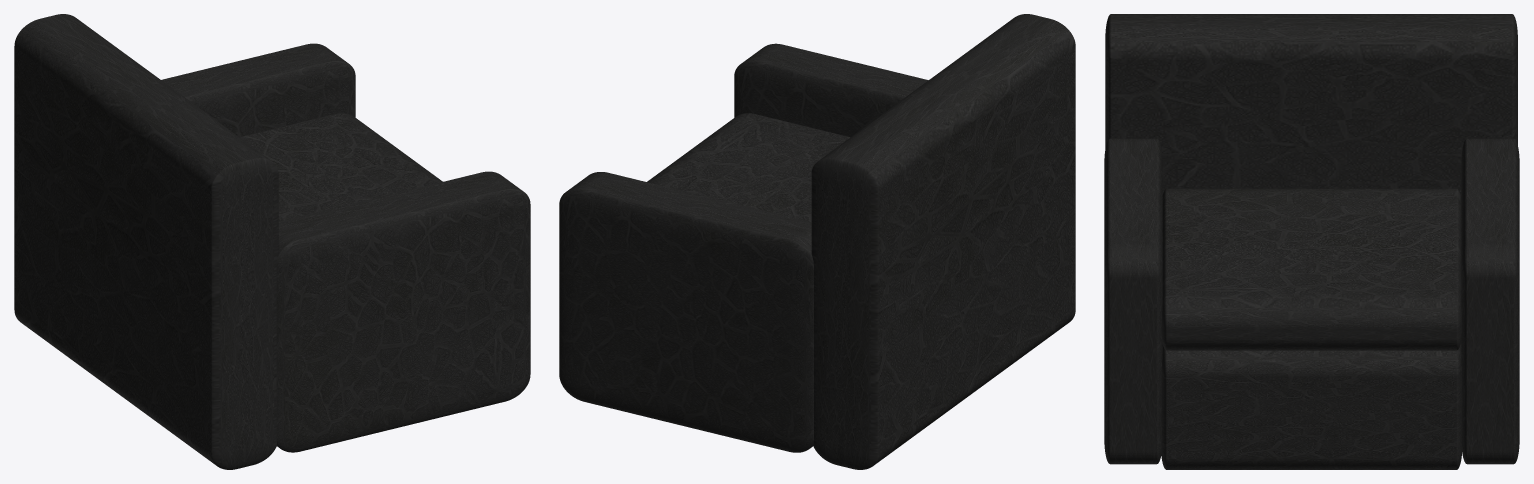
File: chair.glb
3 renders of one model, left to right at view 1: azimuth 30°, elevation 25°; view 2: azimuth 150°, elevation 25°; view 3: azimuth 270°, elevation 25°, orthographic. The views are drawn at different scales.
Visible parts, largest first — view 1: Cube.001; view 2: Cube.001; view 3: Cube.001.
Part boxes in pixels (x1,y1,x2,y2): Cube.001: (14,14,530,469); Cube.001: (559,14,1075,469); Cube.001: (1104,14,1519,469).
Bounding box in the file's own units: 2.49 × 2.31 × 2.75.
1 material, 1 textured.
